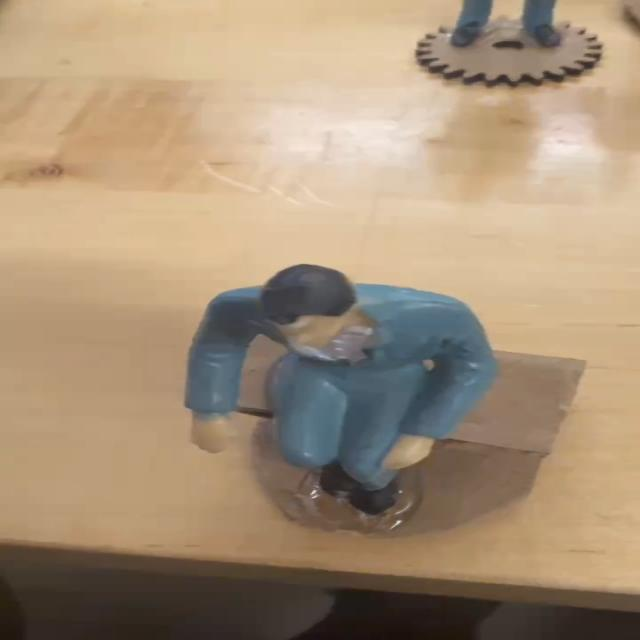Authorized: (139, 242, 590, 546)
